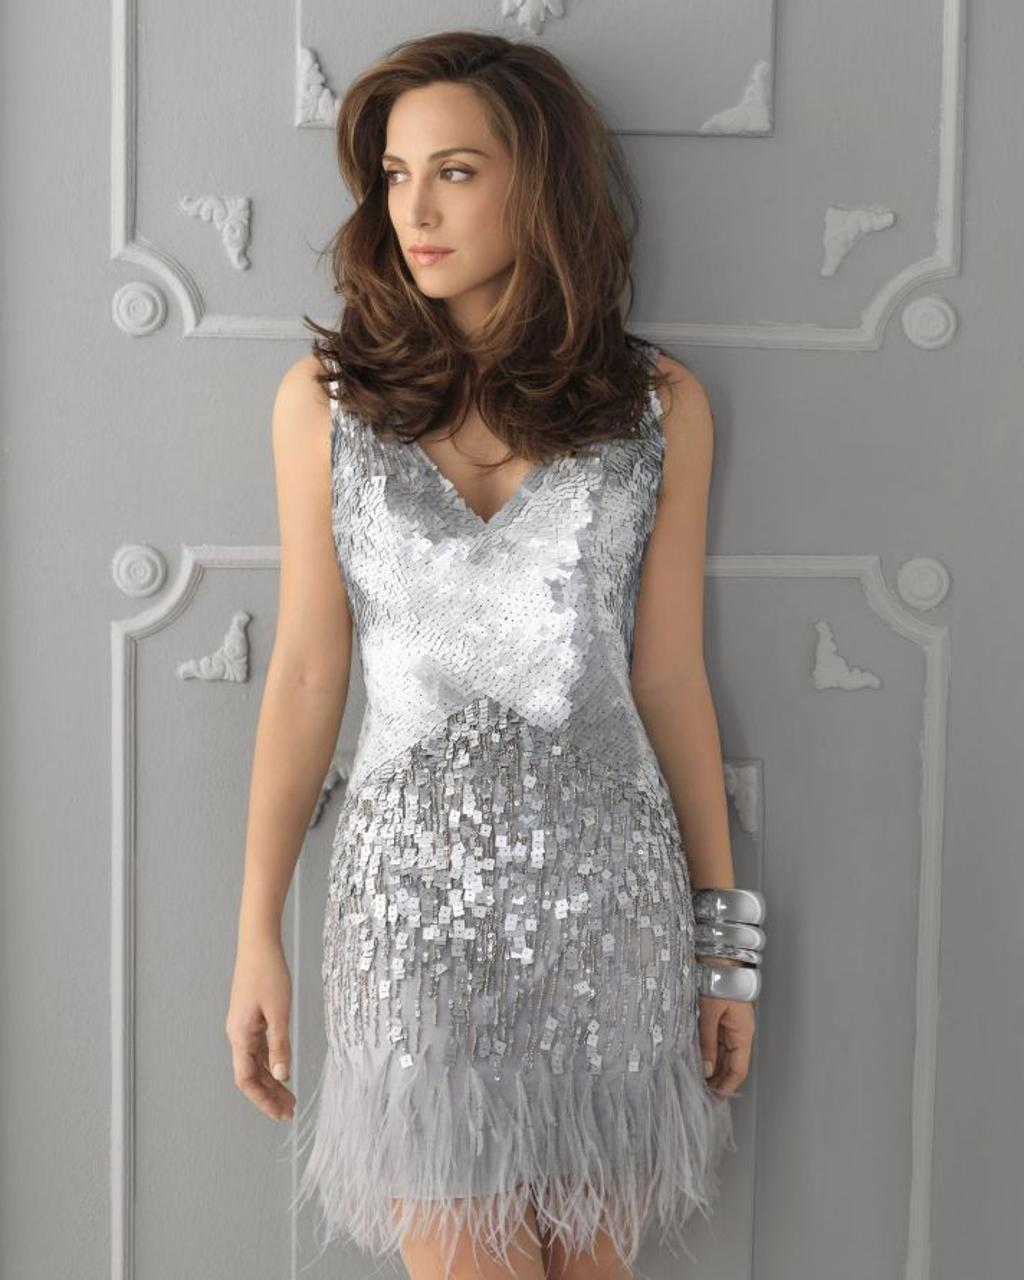face: (382, 85, 519, 297)
